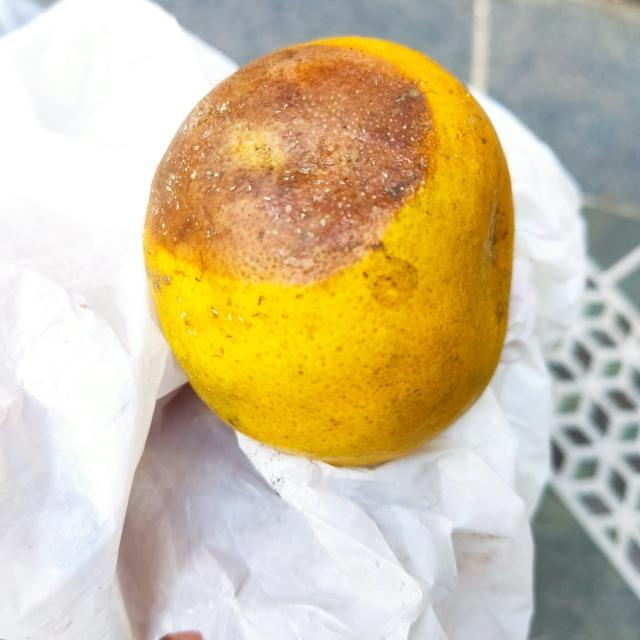agrume: (142, 35, 518, 467)
